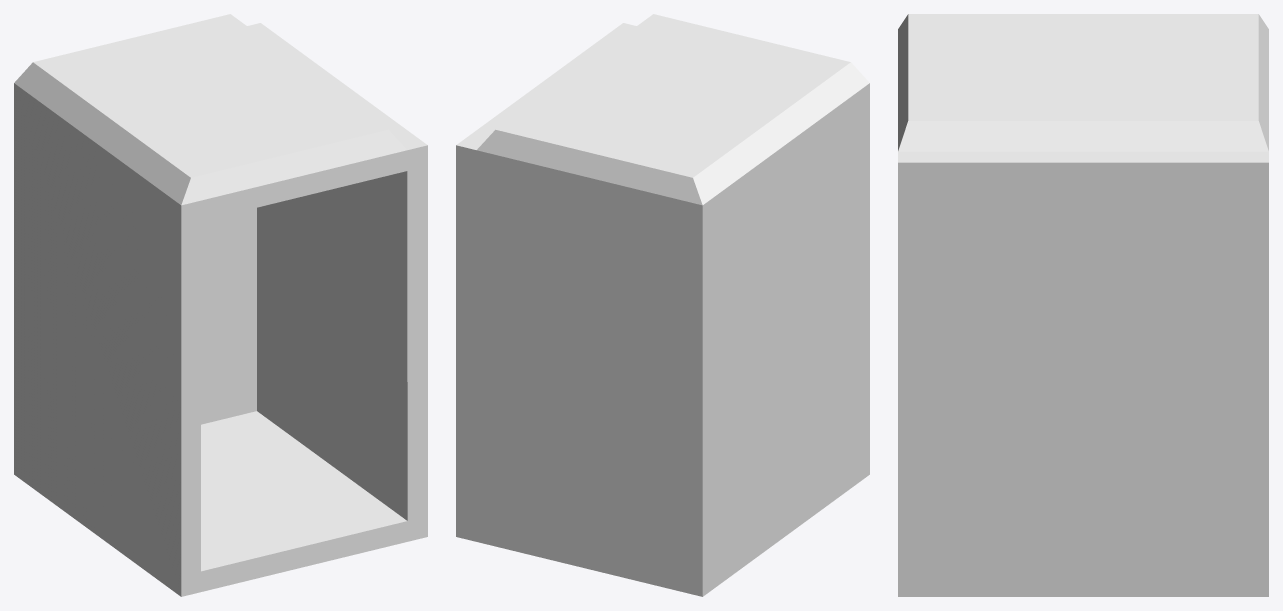
Rendered from Itr_Sink_Side_01.FBX.
The picture shows the model from 3 angles, left to right: view 1: azimuth 30°, elevation 25°; view 2: azimuth 150°, elevation 25°; view 3: azimuth 270°, elevation 25°; orthographic projection. The views are drawn at different scales.
Visible parts, largest first — view 1: Itr_Sink_Side_01; view 2: Itr_Sink_Side_01; view 3: Itr_Sink_Side_01.
Boxes of the visible parts, box(x1,y1,x2,y2) form: Itr_Sink_Side_01: box(14, 14, 427, 596); Itr_Sink_Side_01: box(456, 14, 869, 596); Itr_Sink_Side_01: box(898, 14, 1268, 596).
Size of the model in its own units: 19.97 by 31.9 by 23.45.
